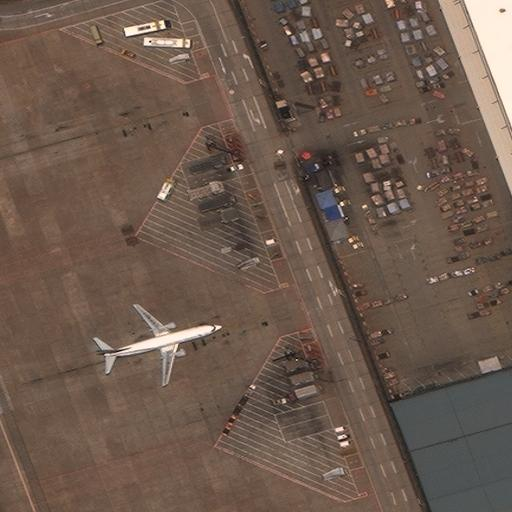Medium Civil Transport: (94, 303, 223, 384)
